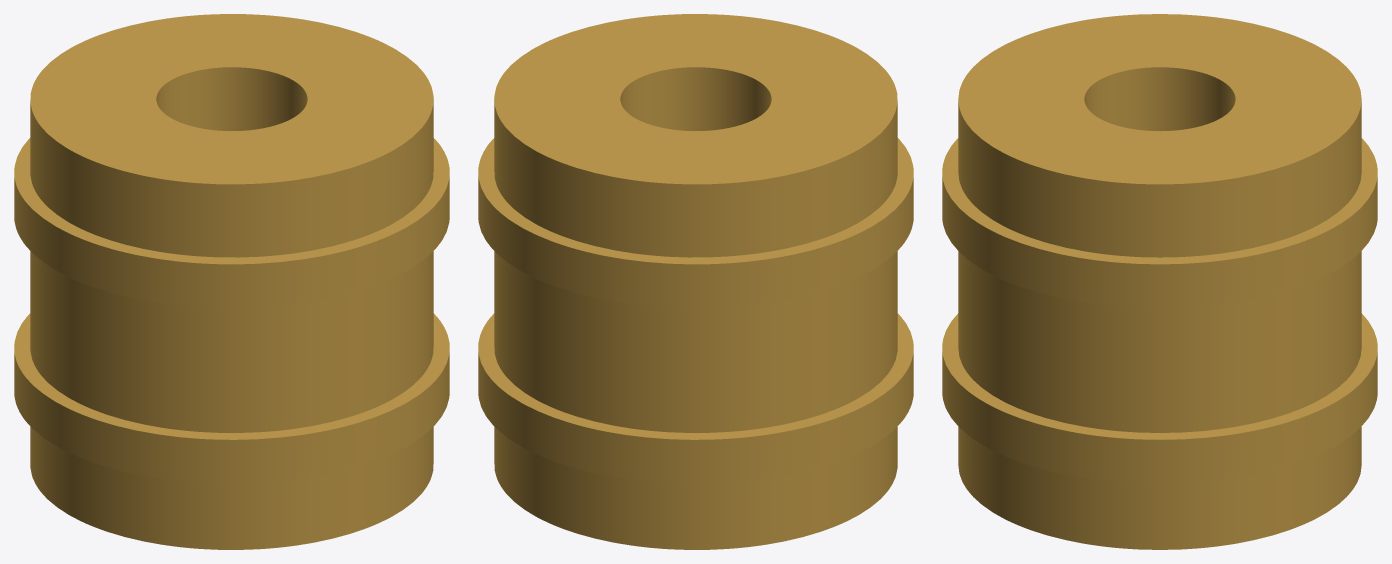
The model's file is heat_set_insert_m3_short_generic_simple.glb.
3 views of the same model, side by side, from view 1: azimuth 30°, elevation 25°; view 2: azimuth 150°, elevation 25°; view 3: azimuth 270°, elevation 25° (orthographic).
Visible parts, largest first — view 1: insert_m3; view 2: insert_m3; view 3: insert_m3.
Part boxes in pixels (bbox=[...]): insert_m3: bbox=[14, 14, 449, 549]; insert_m3: bbox=[478, 14, 913, 549]; insert_m3: bbox=[942, 14, 1377, 549].
Size of the model in its own units: 0.00648 by 0.006 by 0.00648.
